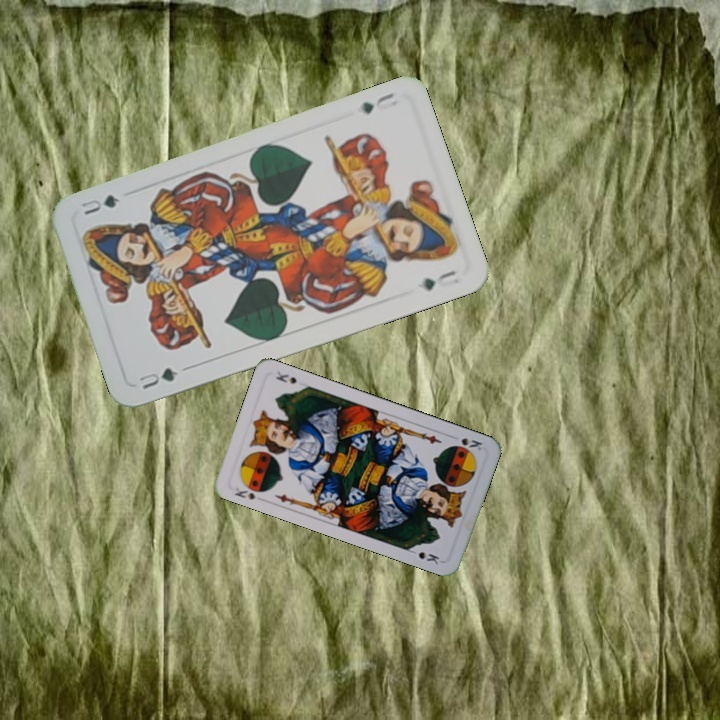GU: (135, 363, 181, 392), (358, 88, 400, 117)
SK: (446, 431, 485, 453), (230, 483, 259, 502)
